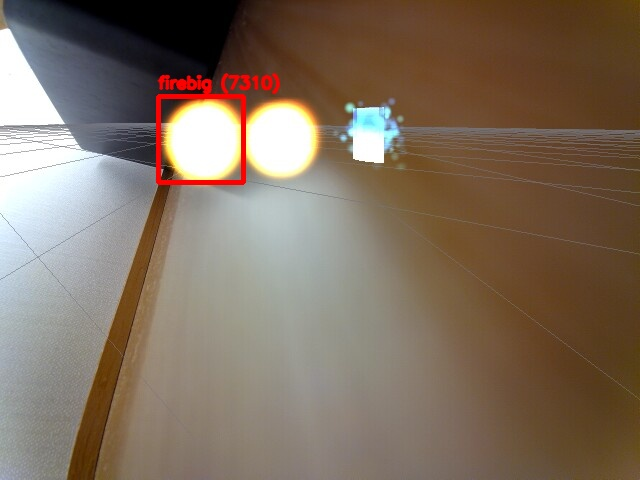firebig: (158, 96, 243, 182)
